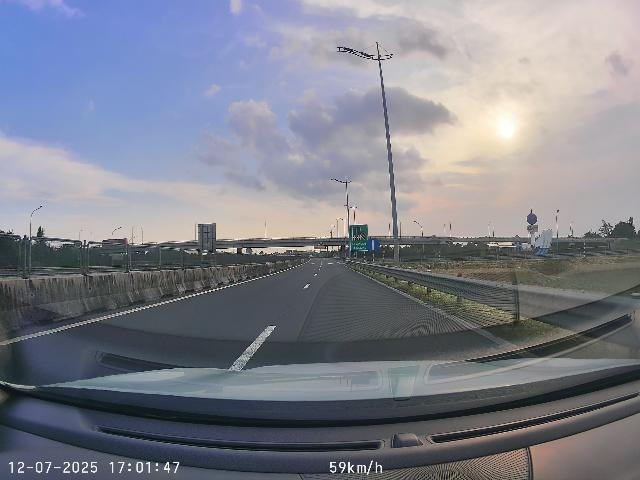301a-cac-xe-chi-duoc-di-thang: (366, 238, 380, 252)
